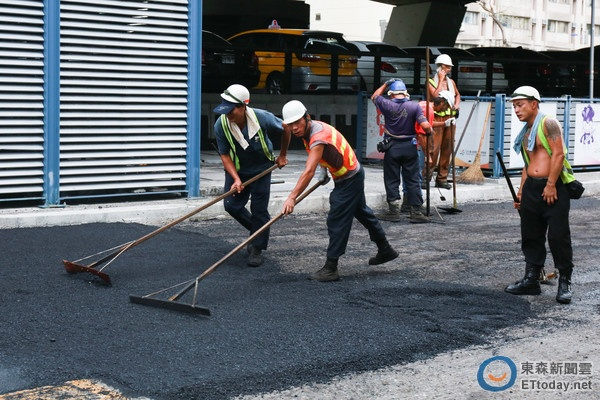blue: (384, 75, 408, 102)
white: (510, 83, 543, 121), (218, 84, 252, 120), (279, 100, 309, 135), (435, 51, 454, 74)
